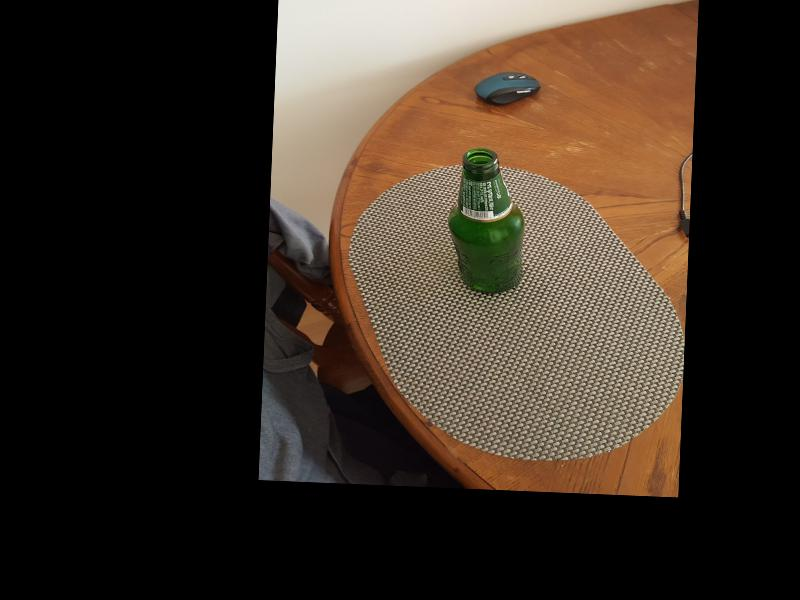Beer: (442, 146, 530, 295)
